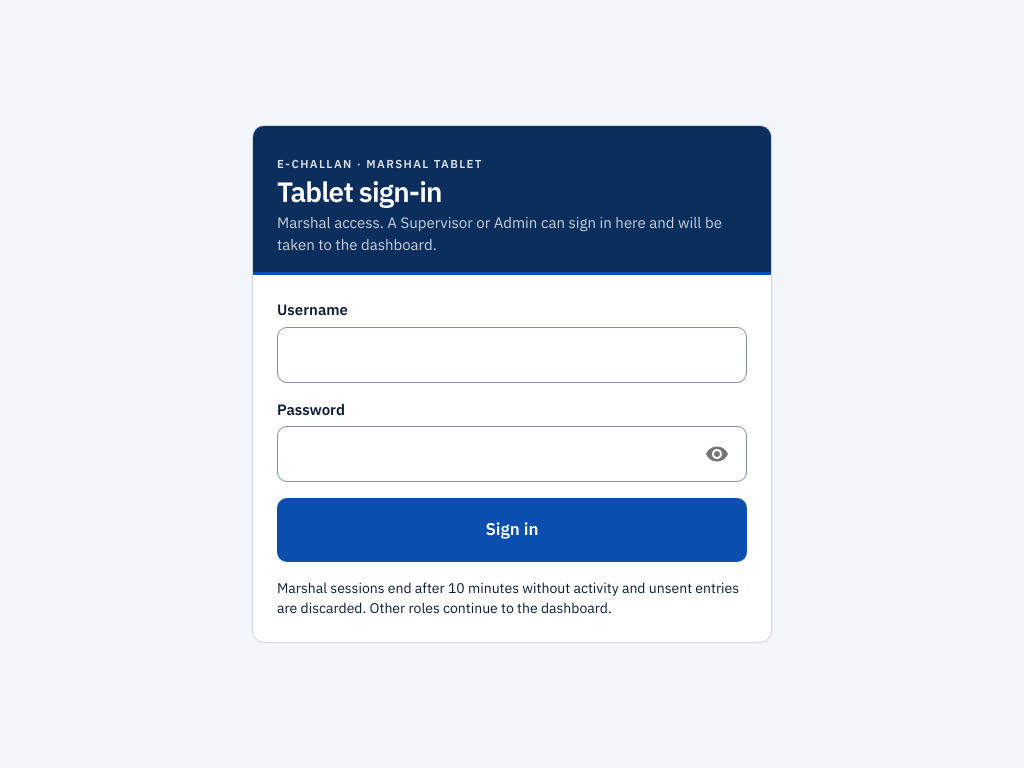
Scenario: tablet shell (F-04) › renders the labelled marshal shell with the lazy entry flow
Step 1. Type "EMP-3106" into the field labelled "Username" → (512, 354), box [277,326,747,382]
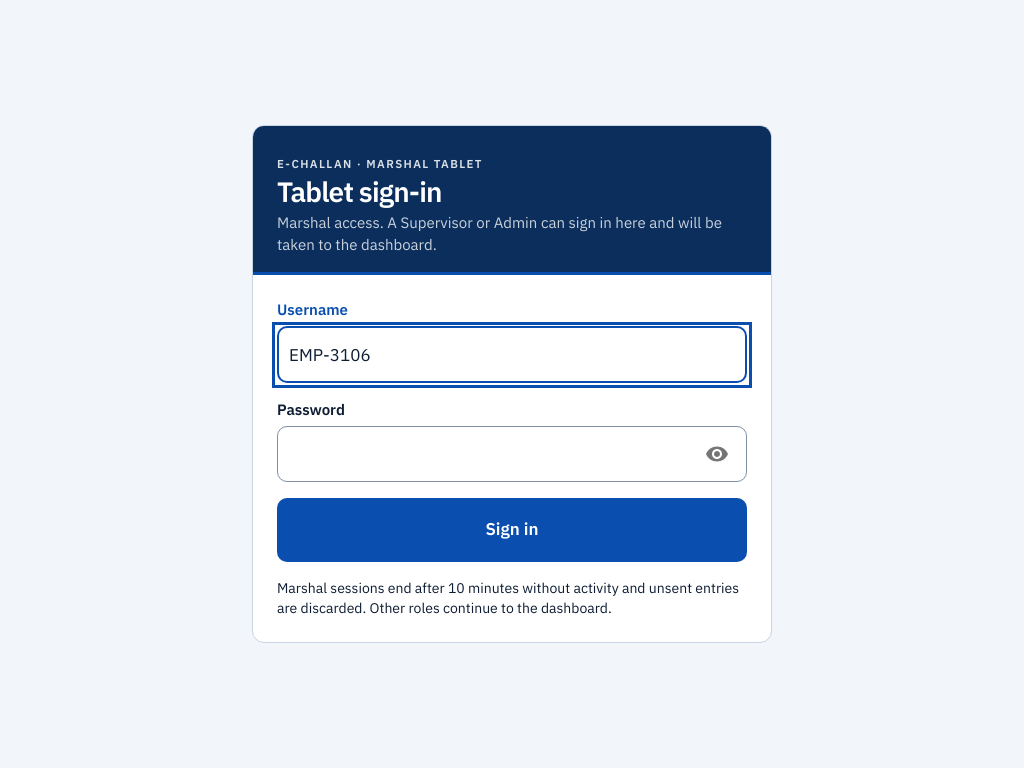
Step 2. Type "planner-demo-marshal-secret" into the password field labelled "Password" → (479, 454), box [277,426,681,482]
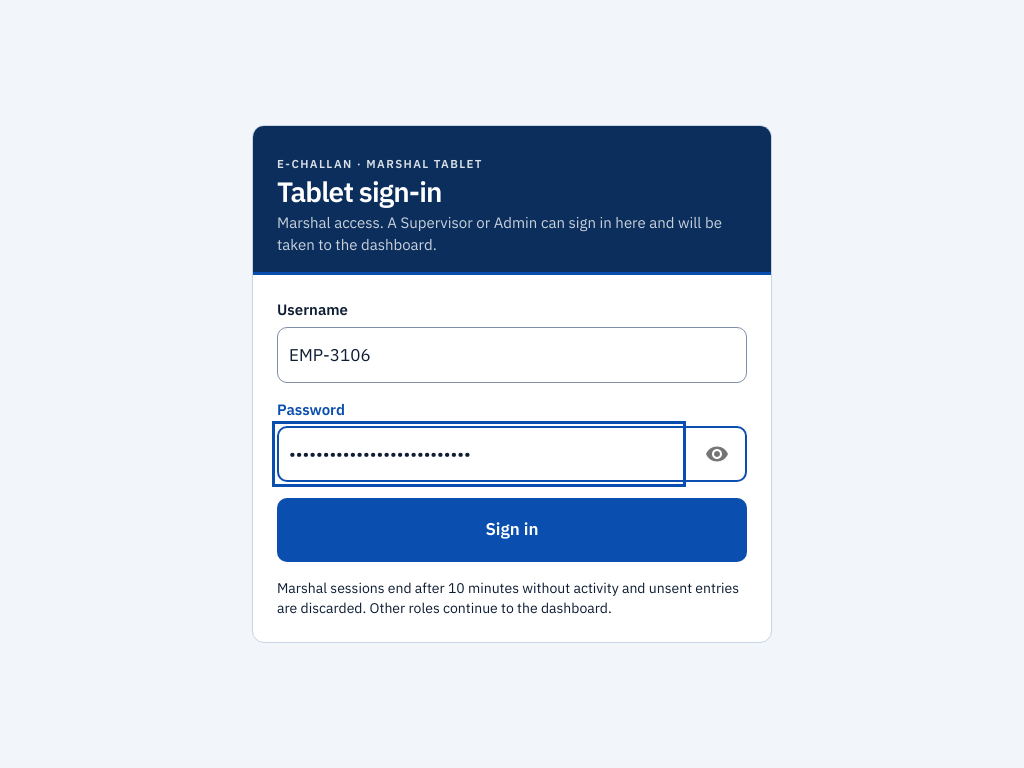
Step 3. Click the button "Sign in" → (512, 530), box [277,498,747,562]
(page scrolled)
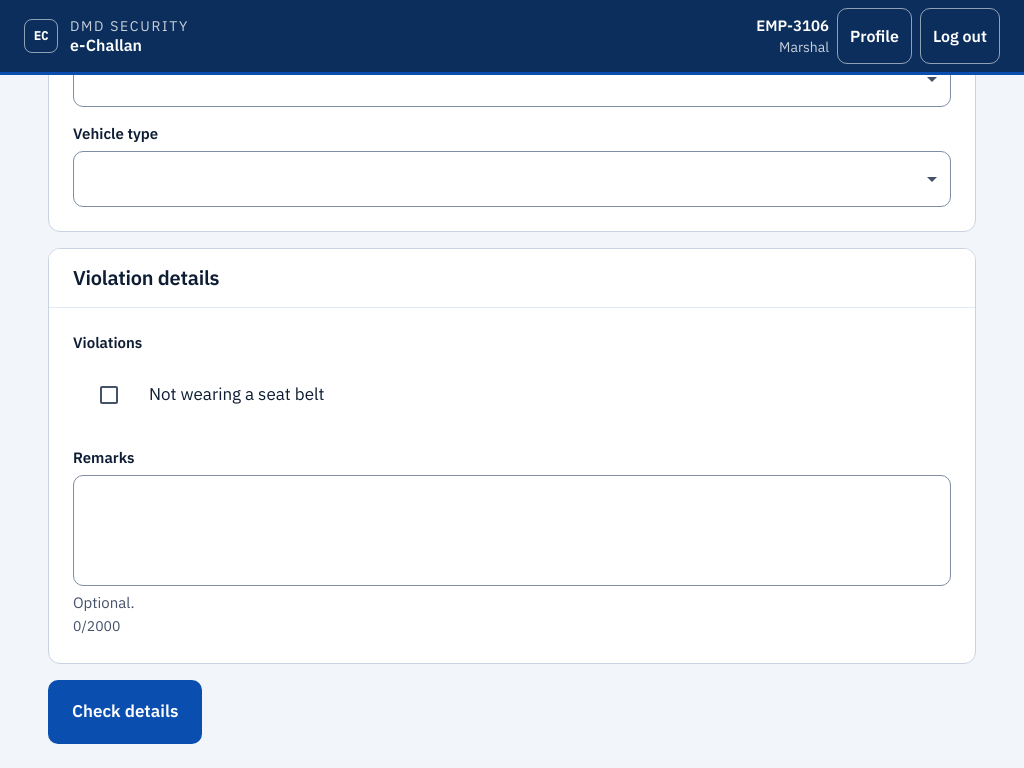
Now the button "Check details" is shown, box [48,680,202,744]
